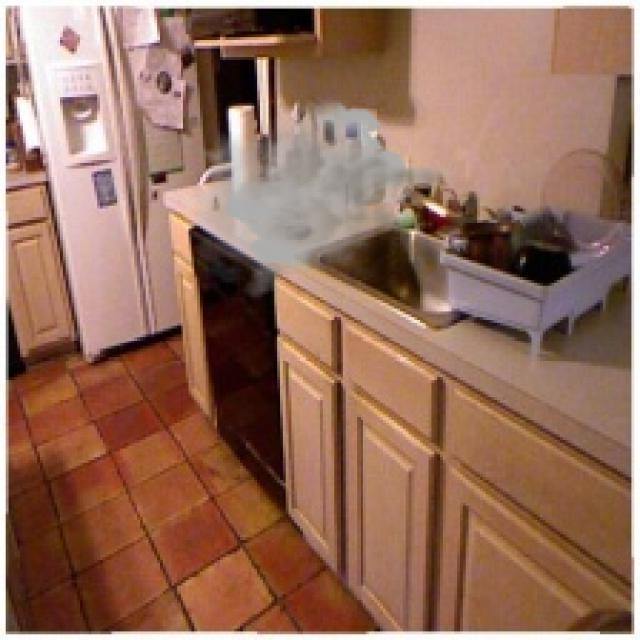Smoke: (188, 97, 458, 300)
